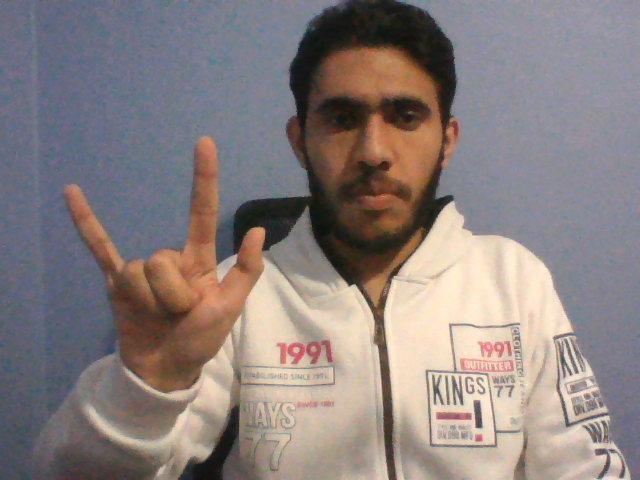iloveyou: (62, 133, 267, 381)
